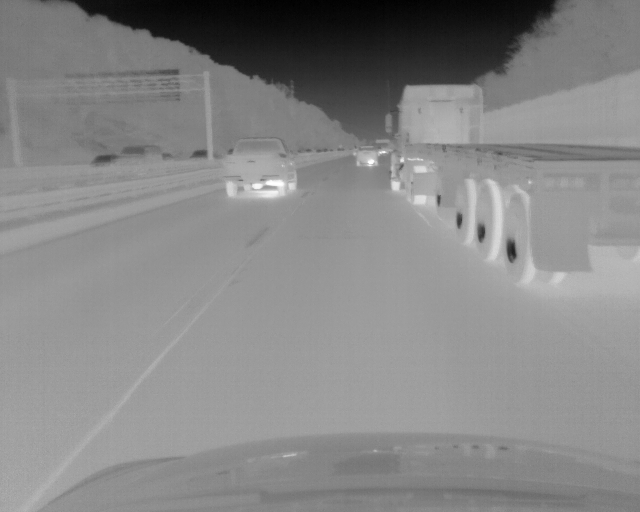car: (384, 83, 640, 289), (223, 137, 298, 196), (121, 145, 163, 163), (355, 145, 378, 167), (90, 154, 118, 165), (191, 149, 208, 159), (162, 152, 173, 161)
